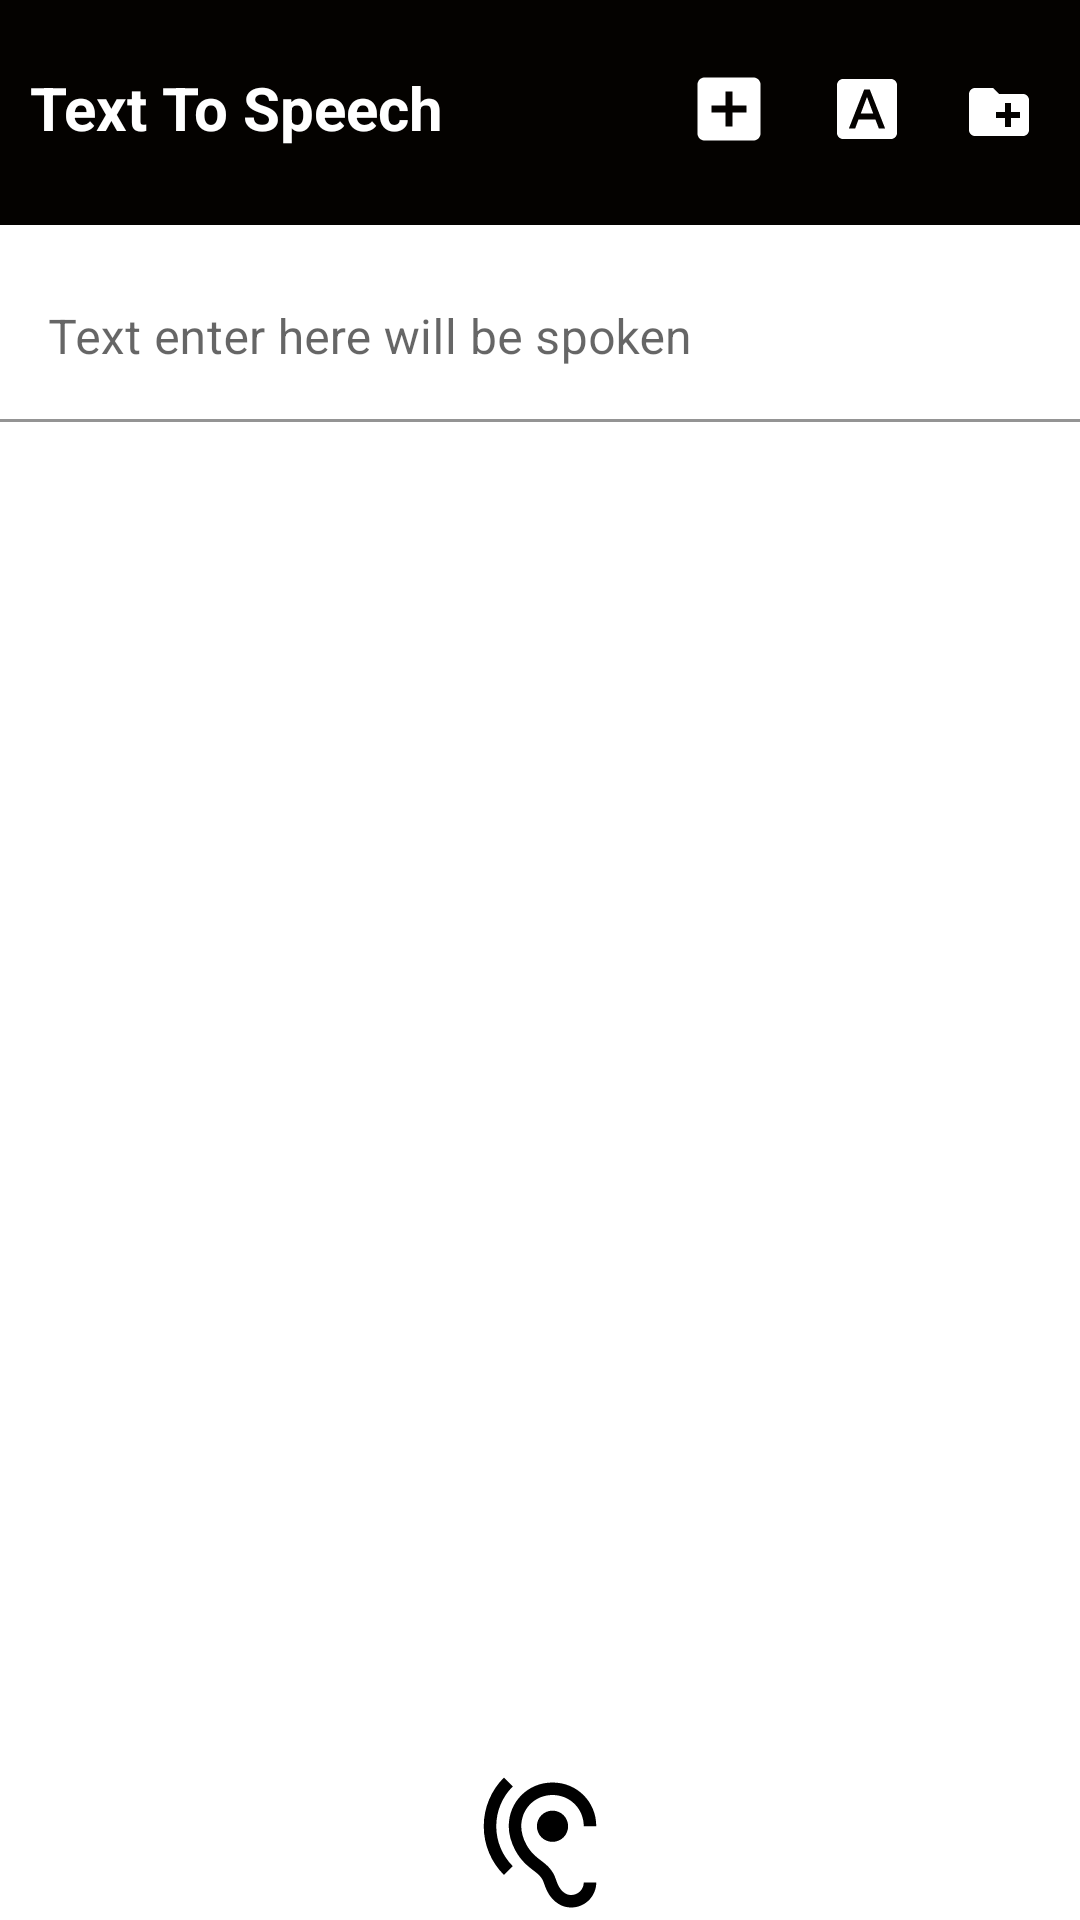

Named icons in this screenshot (1080×1920) and their bounding boxes, (x1,y1,x2,y2):
add box: (697,77,761,141)
create folder: (969,88,1029,136)
font download: (837,79,897,139)
hearing: (483,1778,597,1908)
